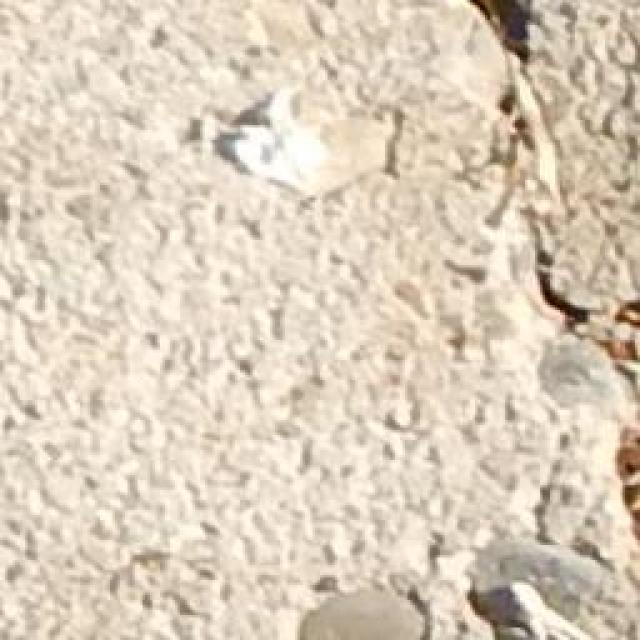concrete-crack: (491, 75, 640, 406), (448, 582, 594, 640), (468, 0, 539, 73)
